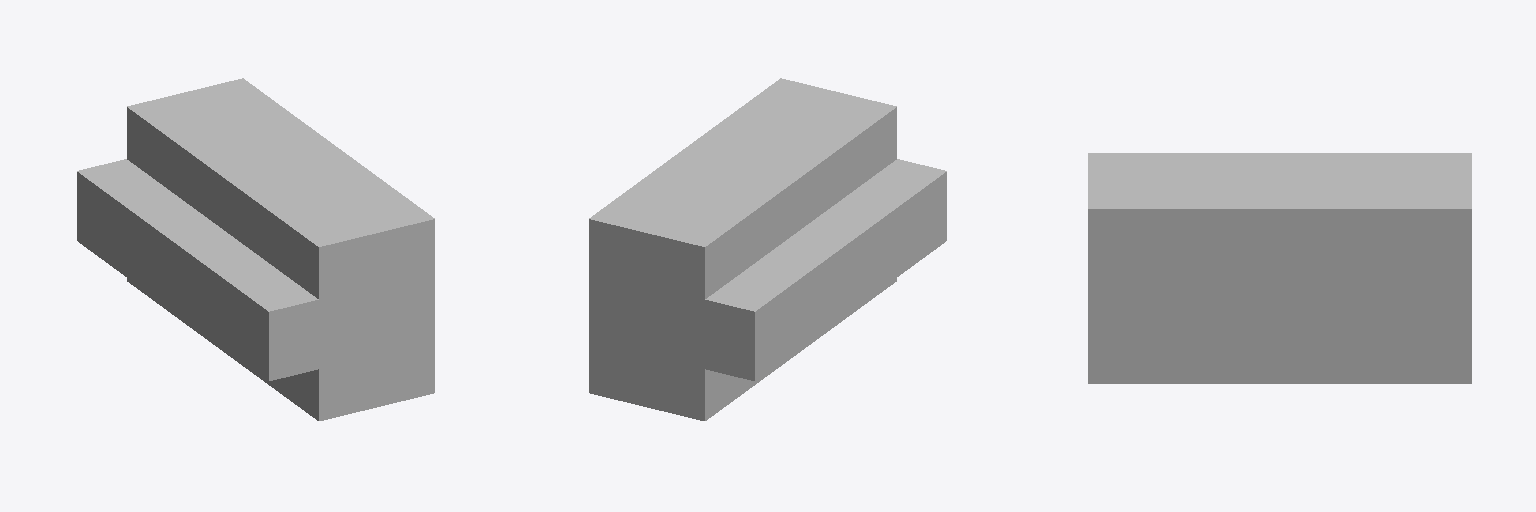
Rendered from cube_leg.obj.
3 views of the same model, side by side, from view 1: azimuth 30°, elevation 25°; view 2: azimuth 150°, elevation 25°; view 3: azimuth 270°, elevation 25° (orthographic).
Visible parts, largest first — view 1: peg_cube_leg; view 2: peg_cube_leg; view 3: peg_cube_leg.
Boxes of the visible parts, x1,y1,x2,y2 form: peg_cube_leg: [77, 78, 434, 420]; peg_cube_leg: [589, 78, 946, 420]; peg_cube_leg: [1088, 153, 1471, 383].
Size of the model in its own units: 0.02 by 0.02 by 0.04.